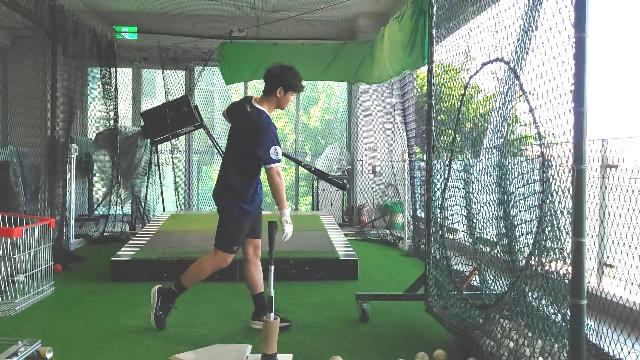bat: (281, 149, 349, 193)
